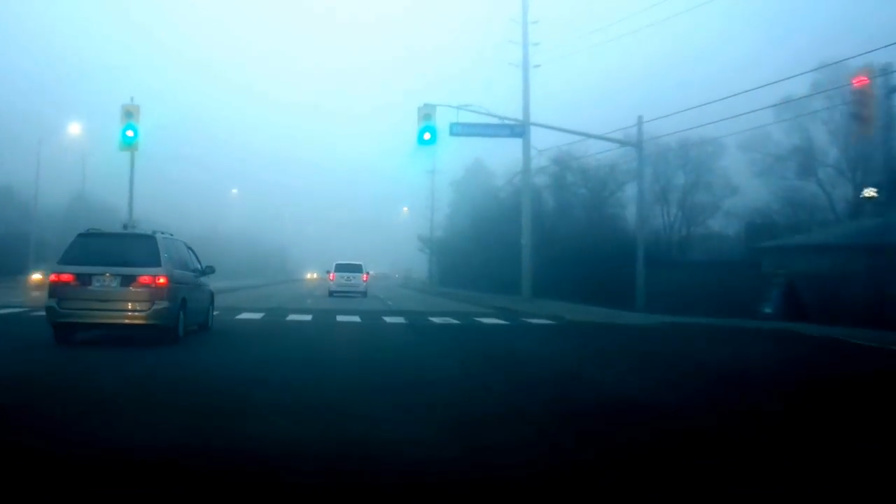car: (44, 224, 219, 338), (324, 260, 371, 297)
